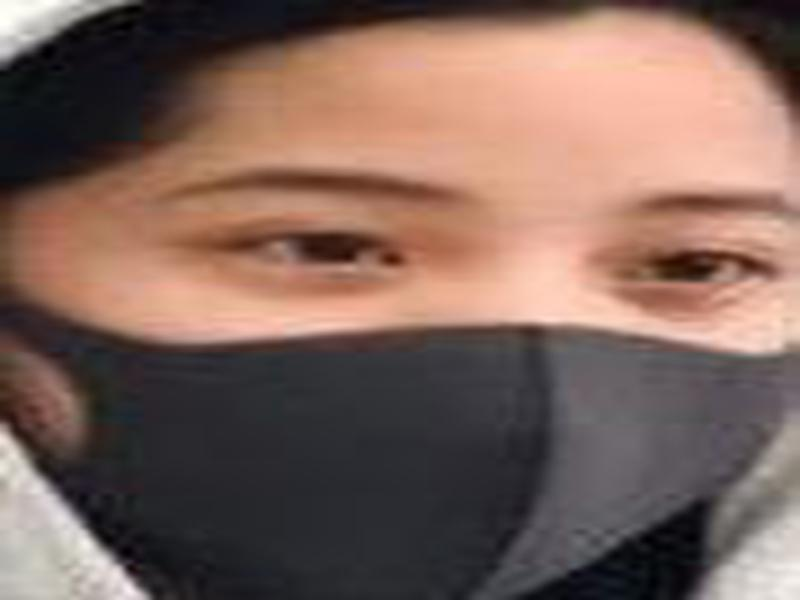with_mask: (1, 15, 797, 596)
